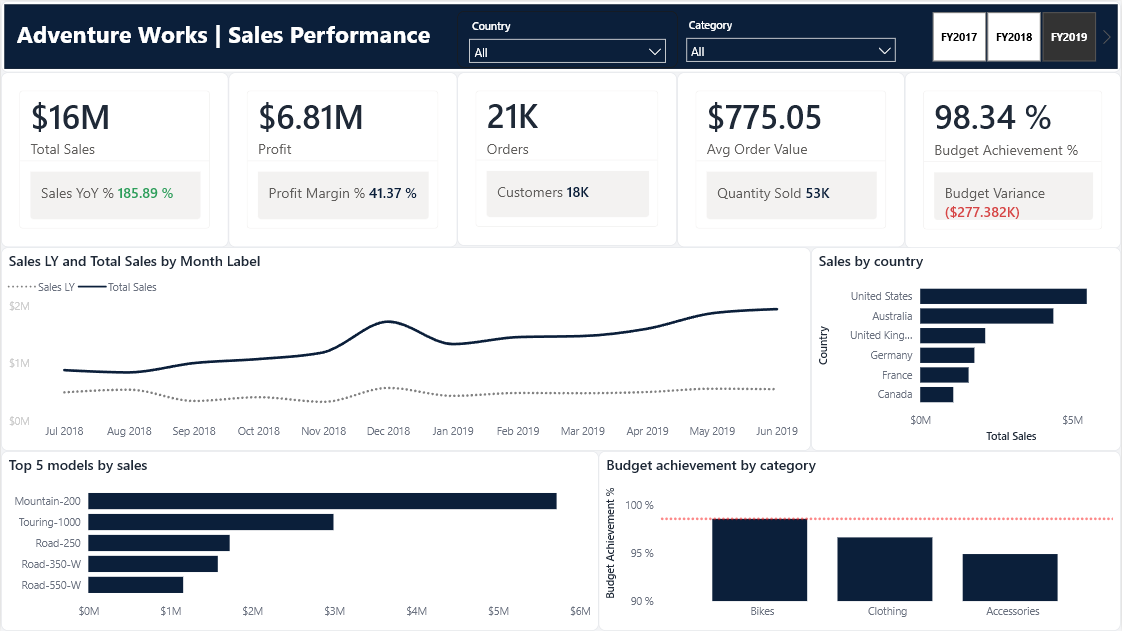

What the dashboard file says about the page in this screenshot:
{"tool":"powerbi","page":{"name":"Sales Overview","canvas":[1280,720],"ordinal":0},"visuals":[{"type":"cardVisual","fields":{"Data":["_Measures.Total Sales"]},"box":[0,81.4,260,200],"z":0},{"type":"cardVisual","fields":{"Data":["_Measures.Profit"]},"box":[260,81.4,261.4,200],"z":1000},{"type":"cardVisual","fields":{"Data":["_Measures.Orders"]},"box":[521.4,81.4,251.4,198.6],"z":2000},{"type":"cardVisual","fields":{"Data":["_Measures.Avg Order Value"]},"box":[772.9,81.4,260,200],"z":3000},{"type":"cardVisual","fields":{"Data":["_Measures.Budget Achievement %"]},"box":[1032.9,81.4,247.1,201.4],"z":4000},{"type":"lineChart","fields":{"Y":["_Measures.Sales LY","_Measures.Total Sales"],"Category":["DimDate.Date.Variation.Date Hierarchy.Year","DimDate.Date.Variation.Date Hierarchy.Quarter","DimDate.Month Label"]},"box":[0,281.4,925.7,232.9],"z":5000},{"type":"clusteredBarChart","fields":{"Category":["DimTerritory.Country"],"Y":["_Measures.Total Sales"]},"box":[925.7,281.4,354.3,232.9],"z":6000},{"type":"clusteredBarChart","title":"Top 5 models by sales","fields":{"Y":["_Measures.Total Sales"],"Category":["DimProduct.ModelName"]},"box":[0,514.3,682.9,205.7],"z":7000},{"type":"clusteredColumnChart","title":"Budget achievement by category","fields":{"Category":["DimCategory.Category"],"Y":["_Measures.Budget Achievement %"]},"box":[682.9,514.3,597.1,205.7],"z":8000},{"type":"shape","box":[0,0,1280,81.4],"z":9000},{"type":"textbox","box":[12.9,14.3,494.3,55.7],"z":11500},{"type":"slicer","fields":{"Values":["DimTerritory.Country"]},"box":[521.2,10.9,252.1,65.1],"z":13001},{"type":"slicer","fields":{"Values":["DimCategory.Category"]},"box":[773.3,14.5,259.4,61.5],"z":13002},{"type":"slicer","fields":{"Values":["DimDate.FY"]},"box":[1038.7,6,236.5,70],"z":13003}]}

Visuals, with their boxes in screenshot pixels (x1, y1, x2, y2), scaled from the page's 1280x720 canvas onto the 1122x631 screenshot:
cardVisual - _Measures.Total Sales: box=[0, 71, 228, 247]
cardVisual - _Measures.Profit: box=[228, 71, 457, 247]
cardVisual - _Measures.Orders: box=[457, 71, 677, 245]
cardVisual - _Measures.Avg Order Value: box=[677, 71, 905, 247]
cardVisual - _Measures.Budget Achievement %: box=[905, 71, 1121, 248]
lineChart - _Measures.Sales LY x _Measures.Total Sales: box=[0, 247, 811, 451]
clusteredBarChart - DimTerritory.Country x _Measures.Total Sales: box=[811, 247, 1121, 451]
"Top 5 models by sales" clusteredBarChart: box=[0, 451, 599, 630]
"Budget achievement by category" clusteredColumnChart: box=[599, 451, 1121, 630]
shape: box=[0, 0, 1121, 71]
textbox: box=[11, 13, 445, 61]
slicer - DimTerritory.Country: box=[457, 10, 678, 67]
slicer - DimCategory.Category: box=[678, 13, 905, 67]
slicer - DimDate.FY: box=[910, 5, 1118, 67]
